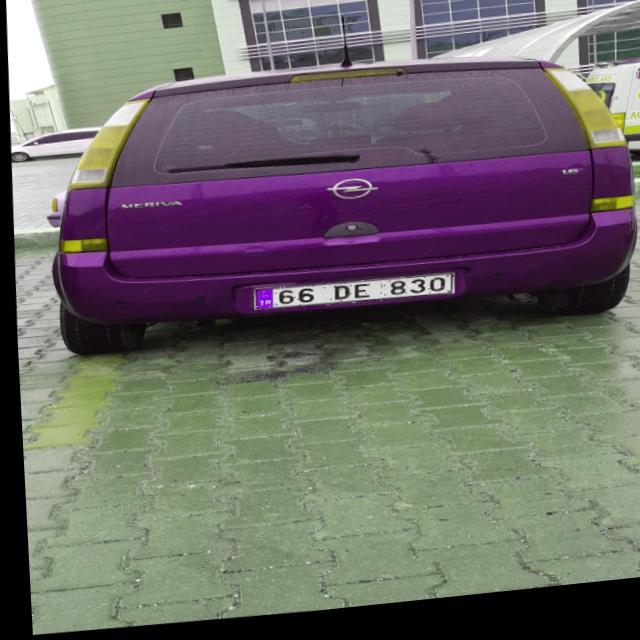license_plate: (250, 278, 451, 320)
